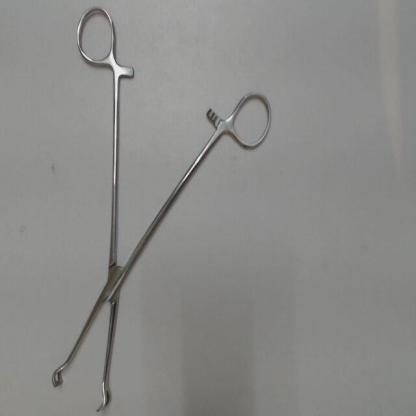8 Babcock Tissue Forceps: (45, 3, 279, 415)
